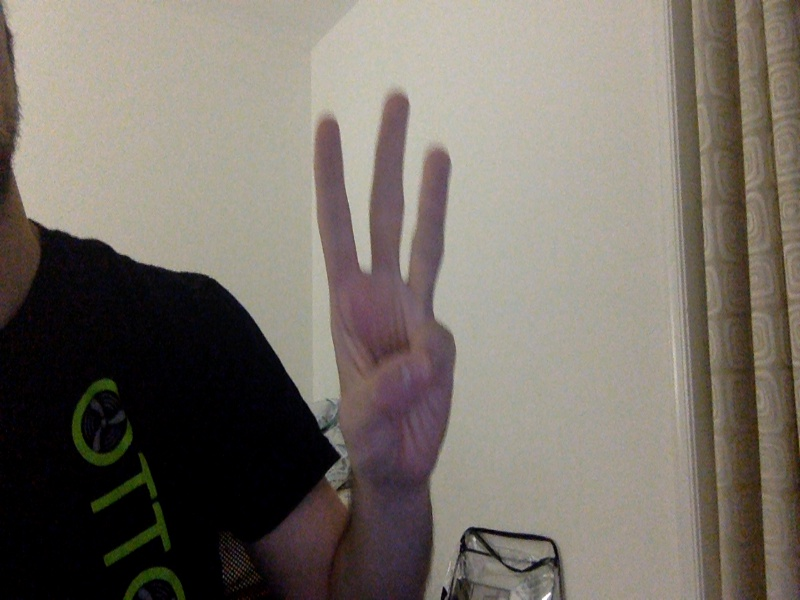3-hand: (310, 92, 460, 490)
